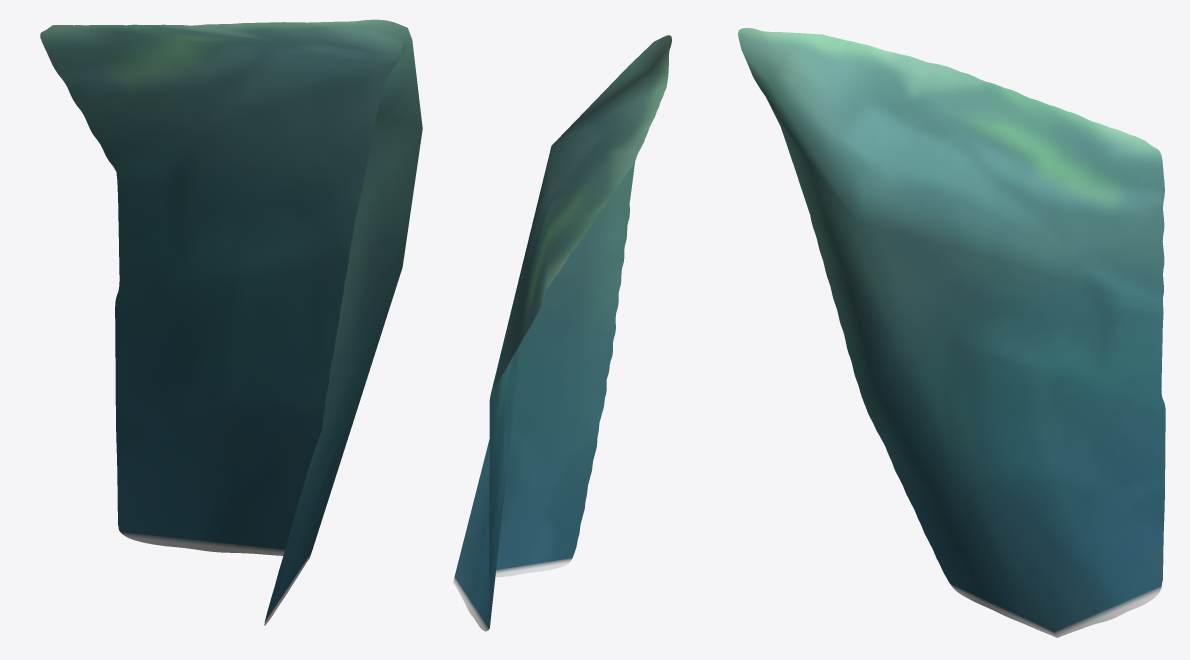
File: obj_shanb.FBX
3 renders of one model, left to right at view 1: azimuth 30°, elevation 25°; view 2: azimuth 150°, elevation 25°; view 3: azimuth 270°, elevation 25°, orthographic. The views are drawn at different scales.
Visible parts, largest first — view 1: obj_shanb; view 2: obj_shanb; view 3: obj_shanb.
Part boxes in pixels (<box>): obj_shanb: <box>40,19,422,625</box>; obj_shanb: <box>453,35,671,631</box>; obj_shanb: <box>738,28,1165,637</box>.
Bounding box in the file's own units: 1257 × 4095 × 2957.
